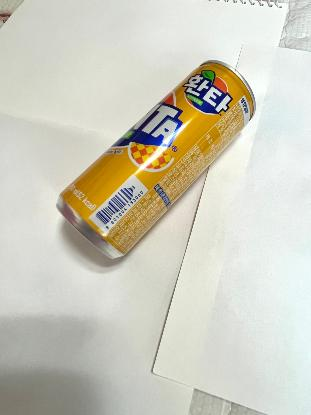Can: (55, 56, 260, 263)
